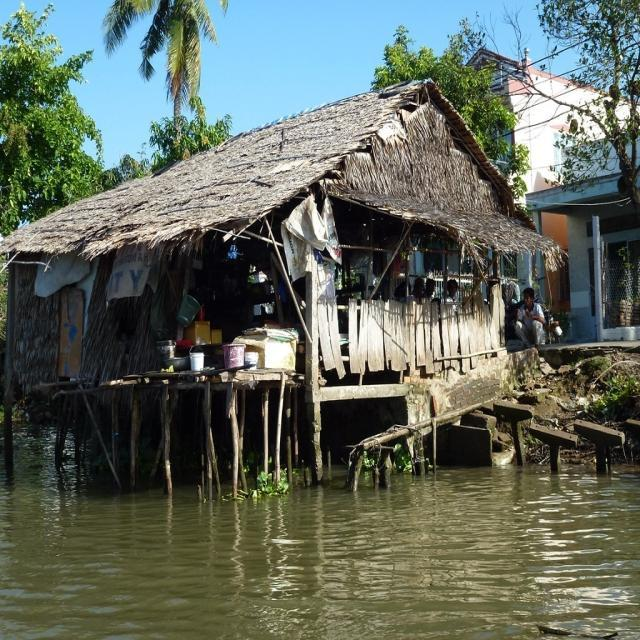Hyacinth: (219, 459, 301, 504), (354, 444, 430, 491)
